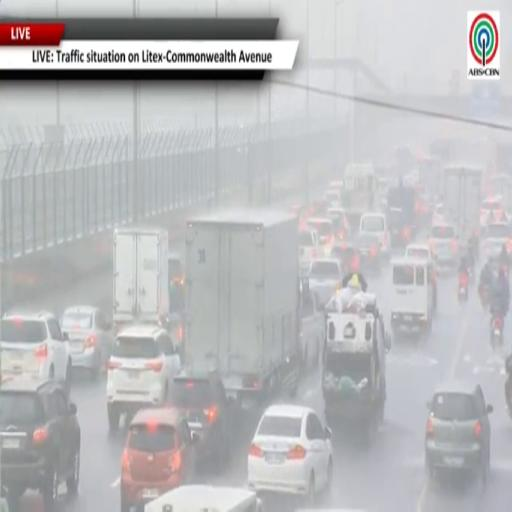car: (0, 378, 80, 511), (248, 405, 333, 502), (120, 408, 198, 511), (107, 325, 181, 431), (425, 380, 492, 481), (170, 370, 231, 468), (0, 312, 71, 386), (387, 259, 437, 337), (60, 306, 113, 378), (144, 485, 263, 511), (308, 258, 342, 307), (429, 223, 459, 269), (360, 213, 391, 257), (355, 232, 384, 273), (483, 222, 511, 260), (307, 218, 335, 255), (168, 254, 185, 311), (331, 243, 360, 276), (298, 230, 323, 268), (480, 197, 506, 229), (327, 207, 350, 241), (405, 244, 435, 261), (306, 199, 330, 217), (324, 189, 341, 206), (289, 204, 309, 217), (433, 203, 444, 225)
motorcycle: (491, 313, 503, 349), (505, 356, 511, 417), (458, 272, 468, 302), (479, 285, 489, 310)
truck: (183, 208, 300, 409), (322, 290, 390, 441), (113, 228, 169, 330), (443, 165, 483, 243), (342, 164, 378, 232), (300, 277, 324, 375), (386, 179, 416, 247), (490, 173, 511, 215)
